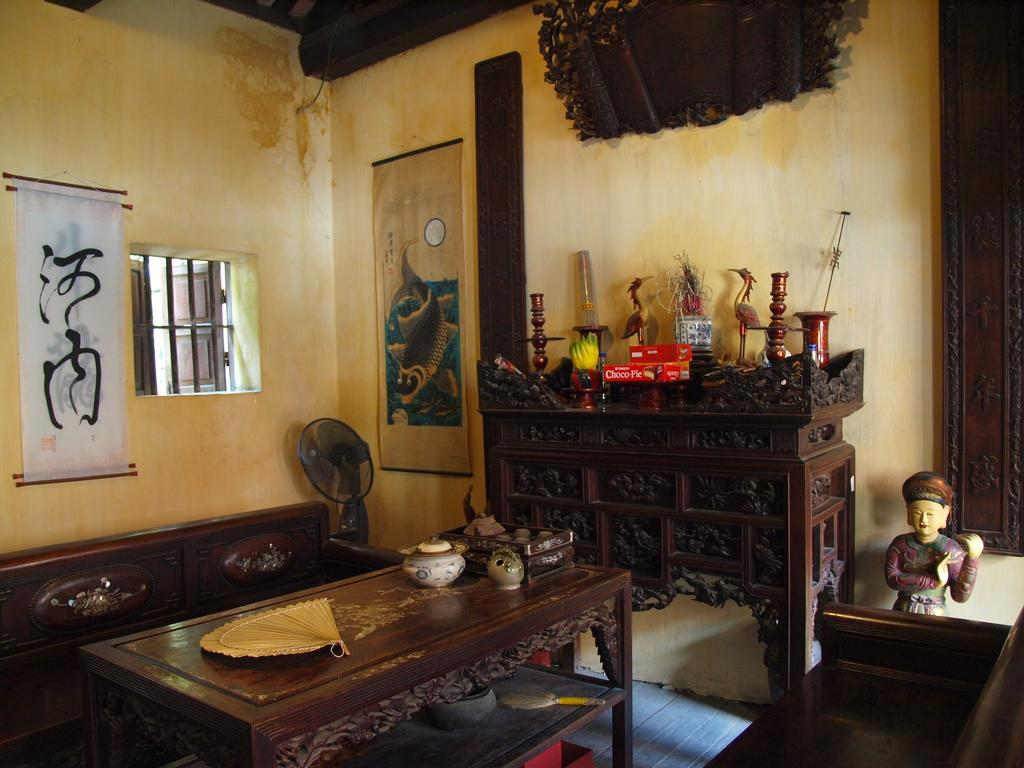Sem Máscara: (904, 499, 940, 534)
